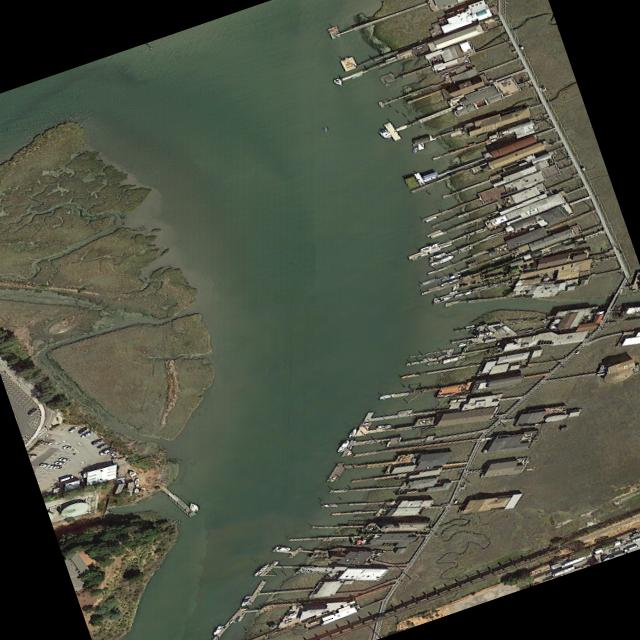ship: (429, 253, 455, 266), (439, 353, 466, 363), (251, 562, 271, 575), (432, 293, 453, 303), (420, 240, 441, 250), (440, 276, 460, 286), (336, 438, 351, 451), (441, 271, 461, 280), (377, 127, 393, 138), (428, 250, 447, 259), (187, 500, 201, 512), (474, 329, 494, 337), (454, 289, 472, 297), (239, 594, 251, 605), (331, 76, 345, 85), (211, 624, 223, 634), (346, 426, 358, 436), (126, 468, 139, 477), (273, 544, 292, 550), (424, 214, 438, 222), (375, 422, 393, 428), (421, 278, 434, 284), (425, 359, 439, 364), (412, 145, 419, 152), (459, 339, 471, 343), (422, 355, 433, 359), (322, 124, 328, 131), (133, 487, 138, 493), (133, 477, 139, 482), (134, 482, 140, 486)
small-vehicle: (98, 445, 114, 454), (622, 543, 639, 551), (59, 473, 74, 481), (95, 441, 110, 448), (80, 429, 94, 436), (91, 437, 104, 444), (75, 425, 87, 432), (38, 439, 53, 444), (67, 425, 79, 431), (26, 407, 38, 413), (608, 546, 620, 552), (48, 463, 62, 468), (57, 456, 70, 461), (61, 444, 74, 449), (631, 535, 640, 541), (52, 460, 65, 464), (38, 462, 51, 466)
storage-tank: (55, 497, 91, 520)
